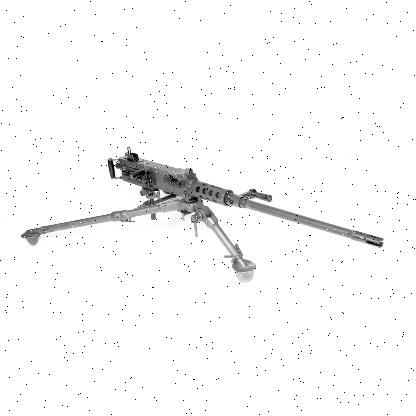gun: (19, 154, 372, 288)
